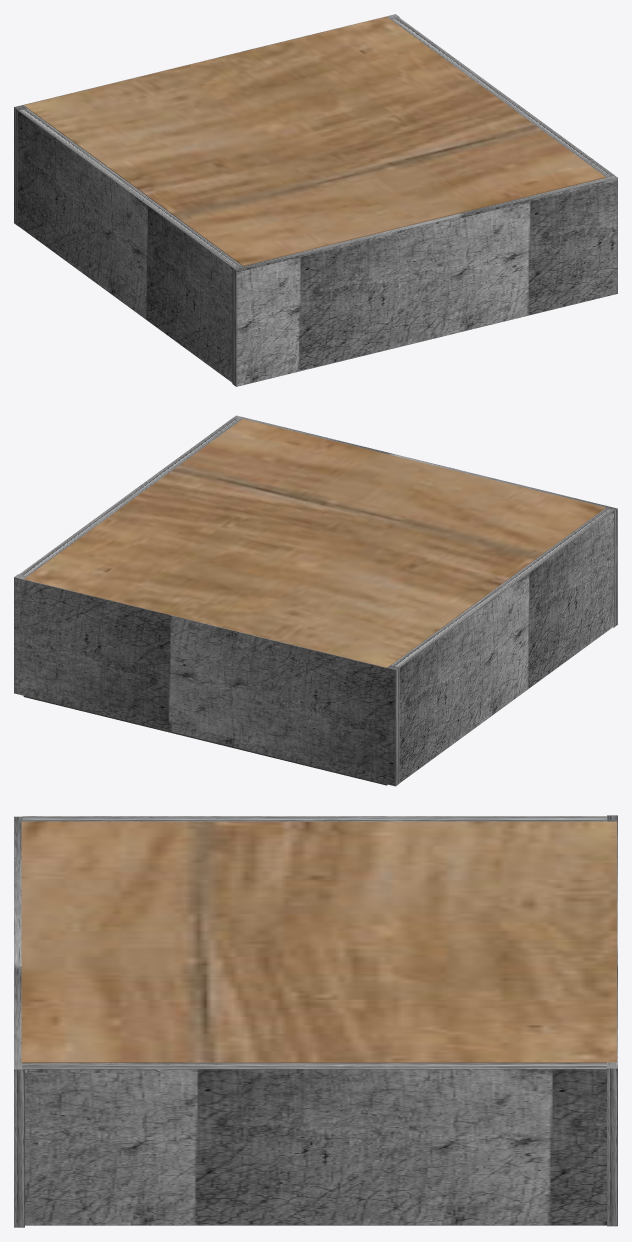
Rendered from Basement.fbx.
3 renders of one model, top to bottom at view 1: azimuth 30°, elevation 25°; view 2: azimuth 150°, elevation 25°; view 3: azimuth 270°, elevation 25°, orthographic. The views are drawn at different scales.
Visible parts, largest first — view 1: pCube5; view 2: pCube5; view 3: pCube5.
Part boxes in pixels (x1,y1,x2,y2): pCube5: (14, 14, 617, 386); pCube5: (14, 415, 617, 786); pCube5: (14, 815, 617, 1227).
Size of the model in its own units: 27.95 by 8.24 by 28.2.
